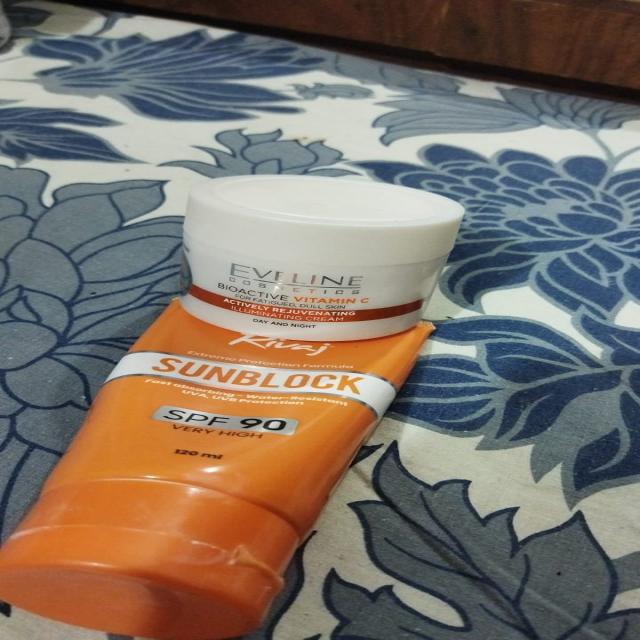lotion: (161, 169, 465, 341)
sun block: (0, 337, 388, 640)
